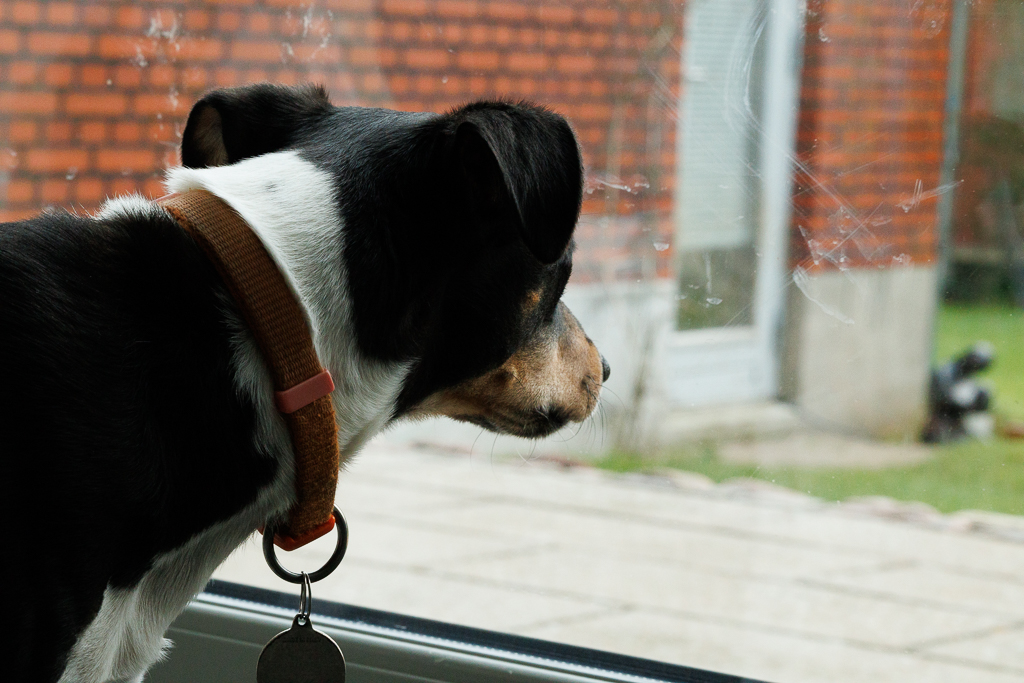Dog: (0, 74, 639, 683)
Humanoid: (913, 328, 1005, 449)
